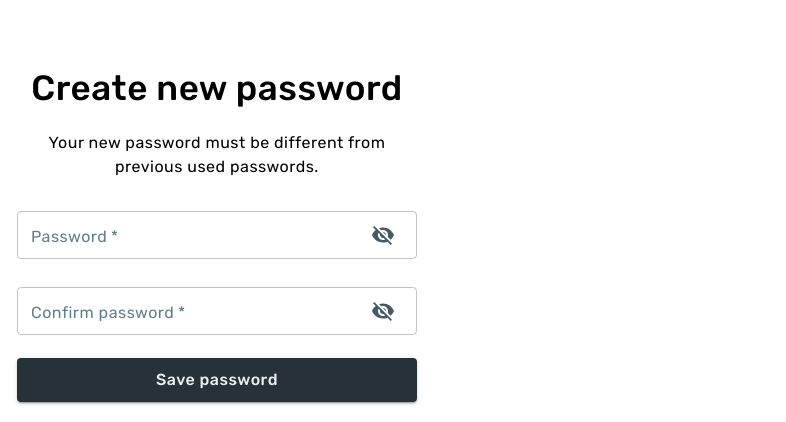
Test: ResetPassword test › should open snackbar with error after reject
Type "12345qwertY" into the password field labelled "Password *".
click(186, 235); type("12345qwertY")  # box [17,211,355,259]
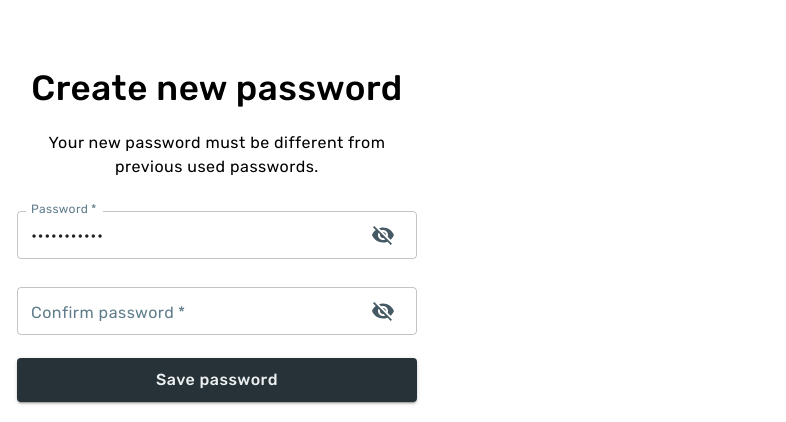
Type "12345qwertY" into the password field labelled "Confirm password *".
click(186, 311); type("12345qwertY")  # box [17,287,355,335]
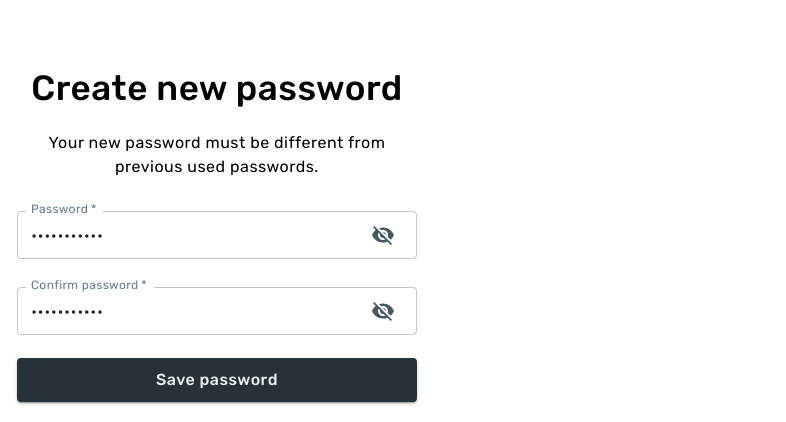
Click the button "Save password".
click(217, 380)  # box [17,358,417,402]
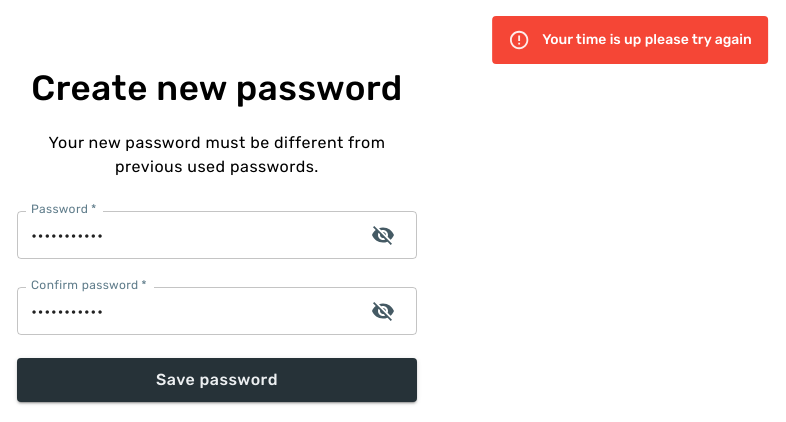
Expected: the message reads "Your time is up please try again", [542,31,752,48]
